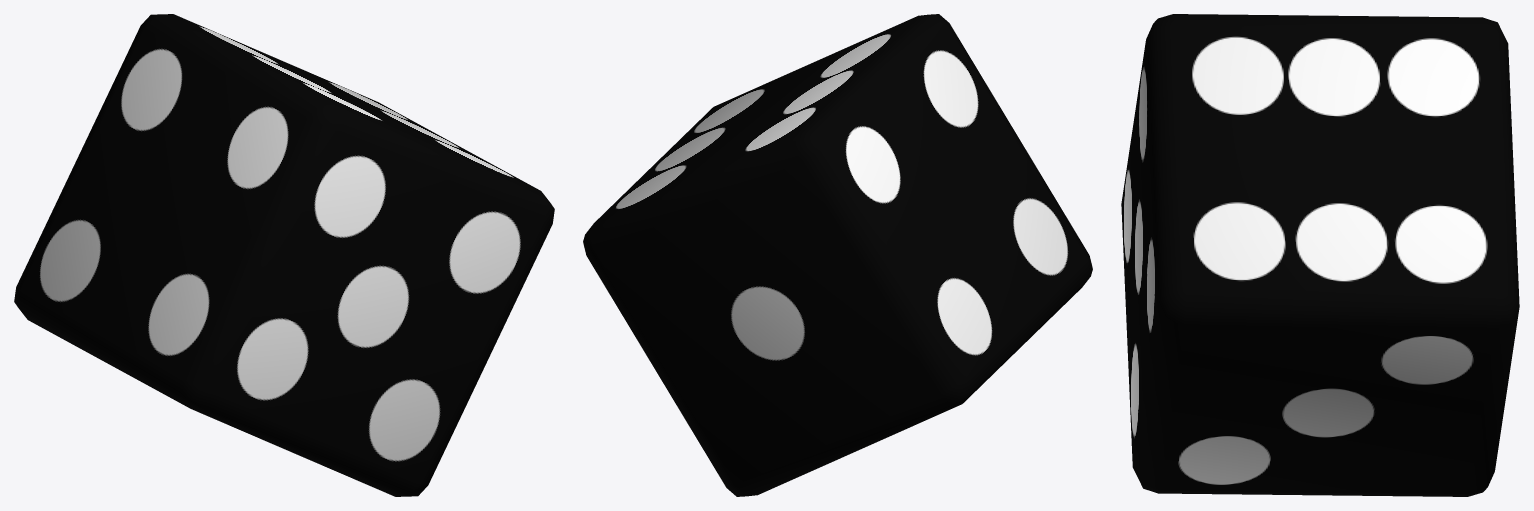
Rendered from dice.fbx.
3 renders of one model, left to right at view 1: azimuth 30°, elevation 25°; view 2: azimuth 150°, elevation 25°; view 3: azimuth 270°, elevation 25°, orthographic. The views are drawn at different scales.
Parts seen in each view (by area): view 1: Cube; view 2: Cube; view 3: Cube.
Part boxes in pixels (x1,y1,x2,y2): Cube: (14,14,554,496); Cube: (583,14,1092,496); Cube: (1121,14,1519,496).
Size of the model in its own units: 277 by 273 by 219.
Materials: 1 (1 with a texture image).
